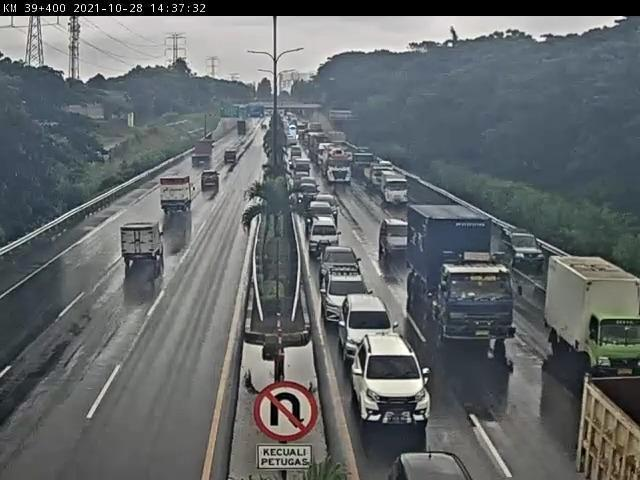car: (360, 329, 431, 435)
